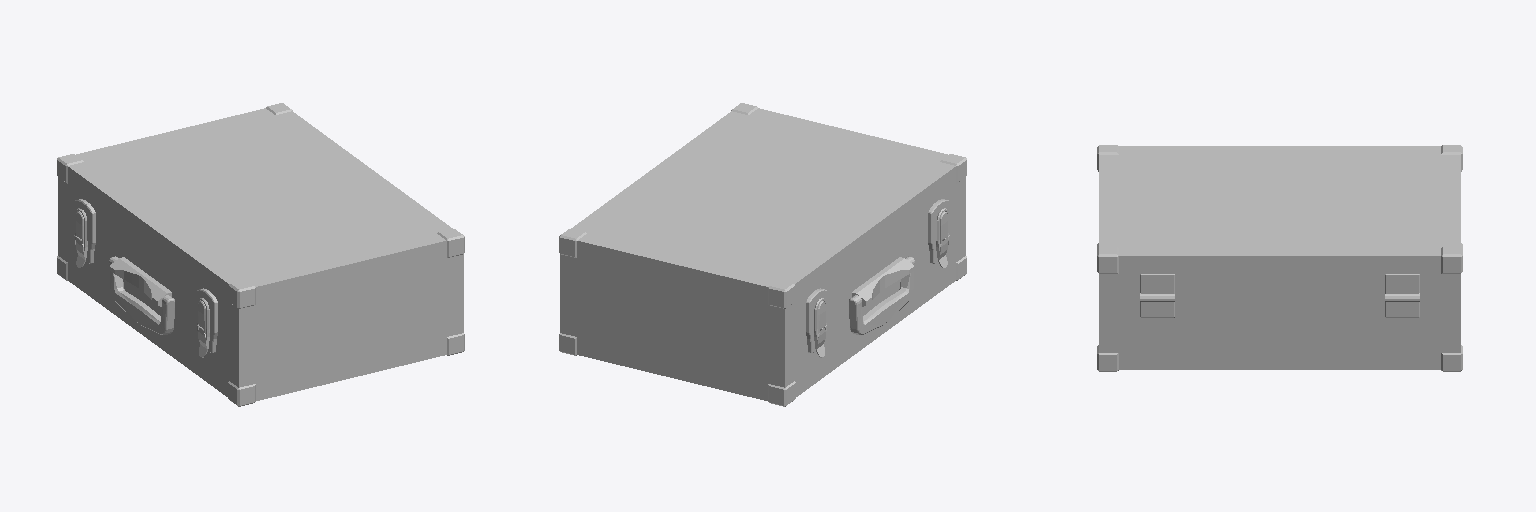
File: Breifcase.obj
The picture shows the model from 3 angles: view 1: azimuth 30°, elevation 25°; view 2: azimuth 150°, elevation 25°; view 3: azimuth 270°, elevation 25°; orthographic projection.
Visible parts, largest first — view 1: Chemodan; view 2: Chemodan; view 3: Chemodan.
Boxes of the visible parts, x1,y1,x2,y2 form: Chemodan: [57, 103, 464, 406]; Chemodan: [559, 103, 966, 406]; Chemodan: [1097, 145, 1462, 371].
Size of the model in its own units: 0.3598 by 0.1644 by 0.464.